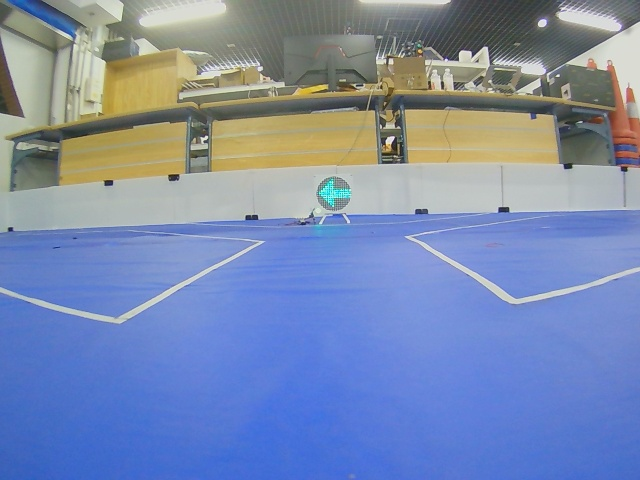left_green: (316, 176, 352, 211)
